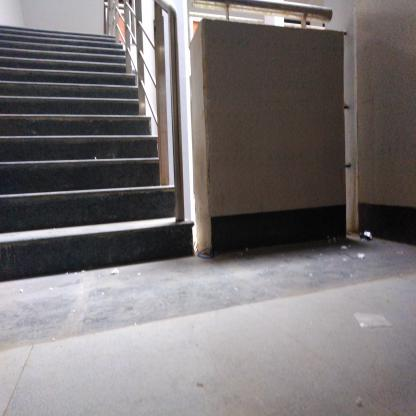stairs: (1, 39, 115, 289)
